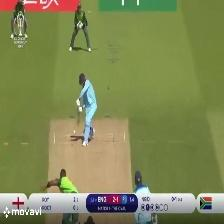ball: (68, 126, 79, 134)
batsman: (64, 71, 110, 155)
